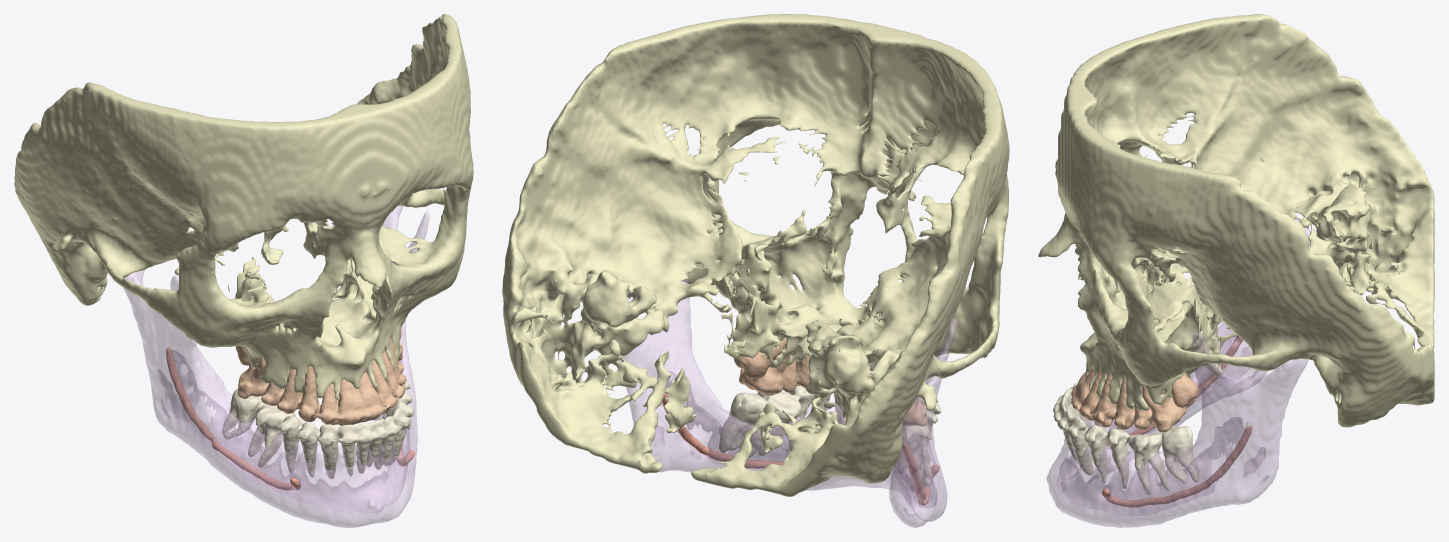
File: PreDentalSurgery_scene.glb
3 views of the same model, side by side, from view 1: azimuth 30°, elevation 25°; view 2: azimuth 150°, elevation 25°; view 3: azimuth 270°, elevation 25° (orthographic). The views are drawn at different scales.
Visible parts, largest first — view 1: maxilla_upper_skull, mandible, lower_teeth, upper_teeth, mandibular_canal; view 2: maxilla_upper_skull, mandible, lower_teeth, upper_teeth, mandibular_canal; view 3: maxilla_upper_skull, mandible, lower_teeth, upper_teeth, mandibular_canal.
Part boxes in pixels (x1,y1,x2,y2): maxilla_upper_skull: (14,14,473,400); mandible: (123,205,429,527); lower_teeth: (222,380,414,479); upper_teeth: (235,325,406,425); mandibular_canal: (166,347,414,490); maxilla_upper_skull: (502,14,1009,496); mandible: (619,279,957,527); lower_teeth: (719,386,941,492); upper_teeth: (734,337,927,426); mandibular_canal: (662,393,939,505); maxilla_upper_skull: (1038,14,1434,427); mandible: (1046,217,1310,527); lower_teeth: (1053,374,1198,494); upper_teeth: (1071,316,1198,432); mandibular_canal: (1102,336,1252,507).
Size of the model in its own units: 143 by 147 by 131.
